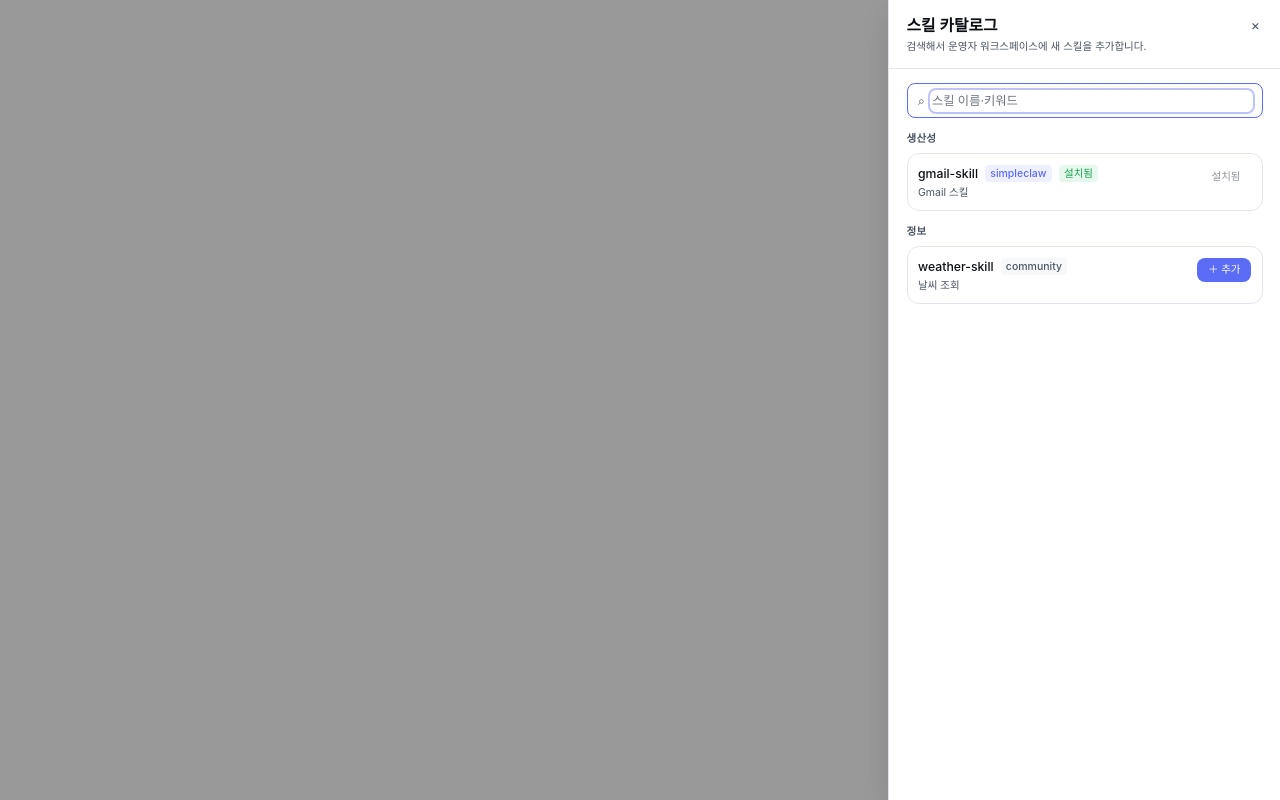
Scenario: SkillDiscoveryDrawer › 검색 결과가 0 이면 empty state 노출
Type "nonexistent-zzz" into the field with test id "skill-discovery-search" at point(1091, 101), box [932,92,1251,110]
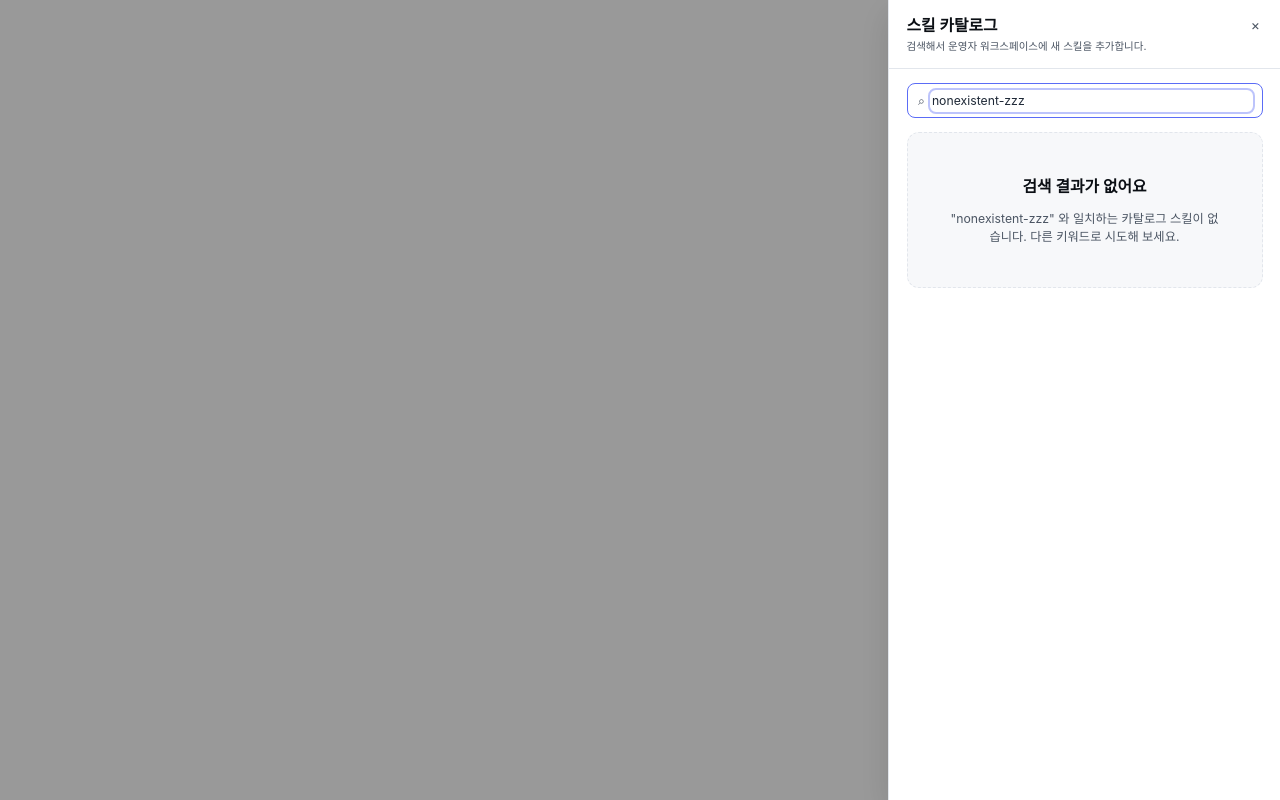
expect the element with test id "skill-discovery-empty" is shown: met, box [906,132,1262,288]
